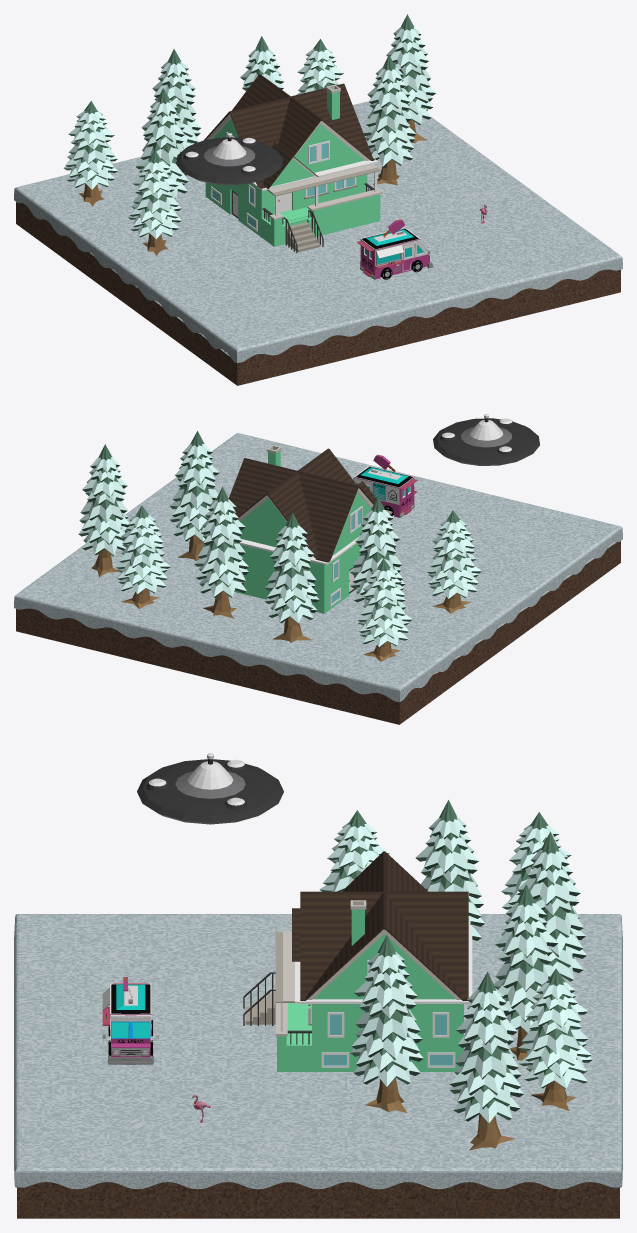
The picture shows the model from 3 angles, top to bottom: view 1: azimuth 30°, elevation 25°; view 2: azimuth 150°, elevation 25°; view 3: azimuth 270°, elevation 25°; orthographic projection. The views are drawn at different scales.
Visible parts, largest first — view 1: Cube.003, Cube.352, OBJRANDOM_UFO, VEHICLES_ICE_CREAM_TRUCK; view 2: Cube.003, Cube.352, OBJRANDOM_UFO, VEHICLES_ICE_CREAM_TRUCK; view 3: Cube.003, Cube.352, OBJRANDOM_UFO, VEHICLES_ICE_CREAM_TRUCK.
Part boxes in pixels (left/top/right/bottom): Cube.003: left=14, top=14, right=622, bottom=385; Cube.352: left=197, top=74, right=382, bottom=253; OBJRANDOM_UFO: left=176, top=133, right=283, bottom=184; VEHICLES_ICE_CREAM_TRUCK: left=357, top=219, right=433, bottom=279; Cube.003: left=14, top=431, right=622, bottom=724; Cube.352: left=229, top=445, right=395, bottom=613; OBJRANDOM_UFO: left=433, top=414, right=539, bottom=465; VEHICLES_ICE_CREAM_TRUCK: left=353, top=454, right=417, bottom=517; Cube.003: left=14, top=800, right=622, bottom=1218; Cube.352: left=243, top=851, right=472, bottom=1071; OBJRANDOM_UFO: left=137, top=753, right=283, bottom=824; VEHICLES_ICE_CREAM_TRUCK: left=102, top=977, right=158, bottom=1064.
Bounding box in the file's own units: 4040 × 1927 × 4040.
40 materials, 3 textured.
